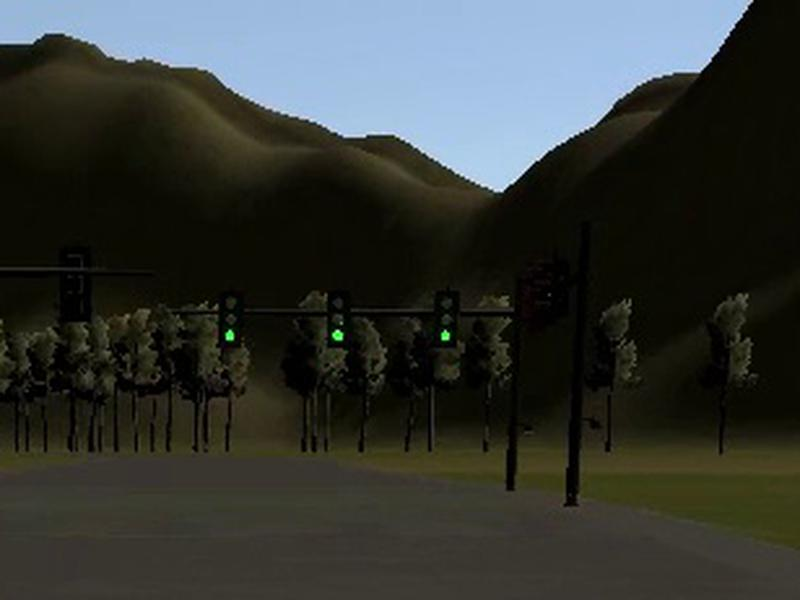Green: (327, 290, 352, 346), (435, 288, 458, 348), (218, 290, 241, 348)
